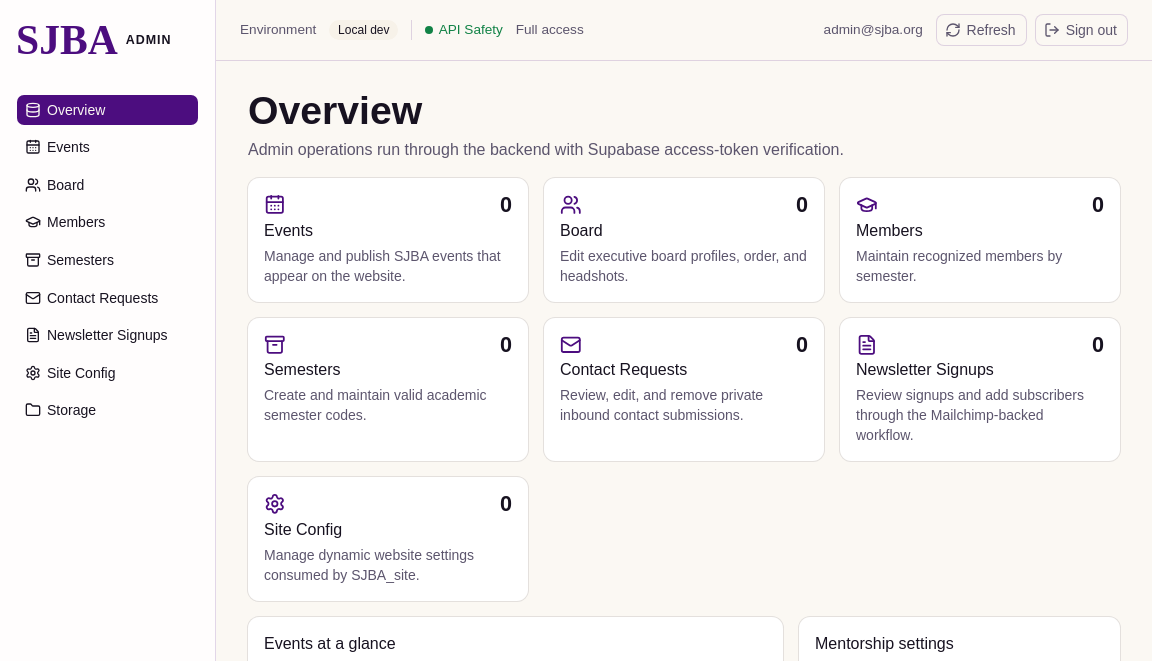
App › opens the site config CRUD screen and create form
The width and height of the screenshot is (1152, 661).
Step 1. Click the button "Site Config" → click(108, 373), box [16,357,199,389]
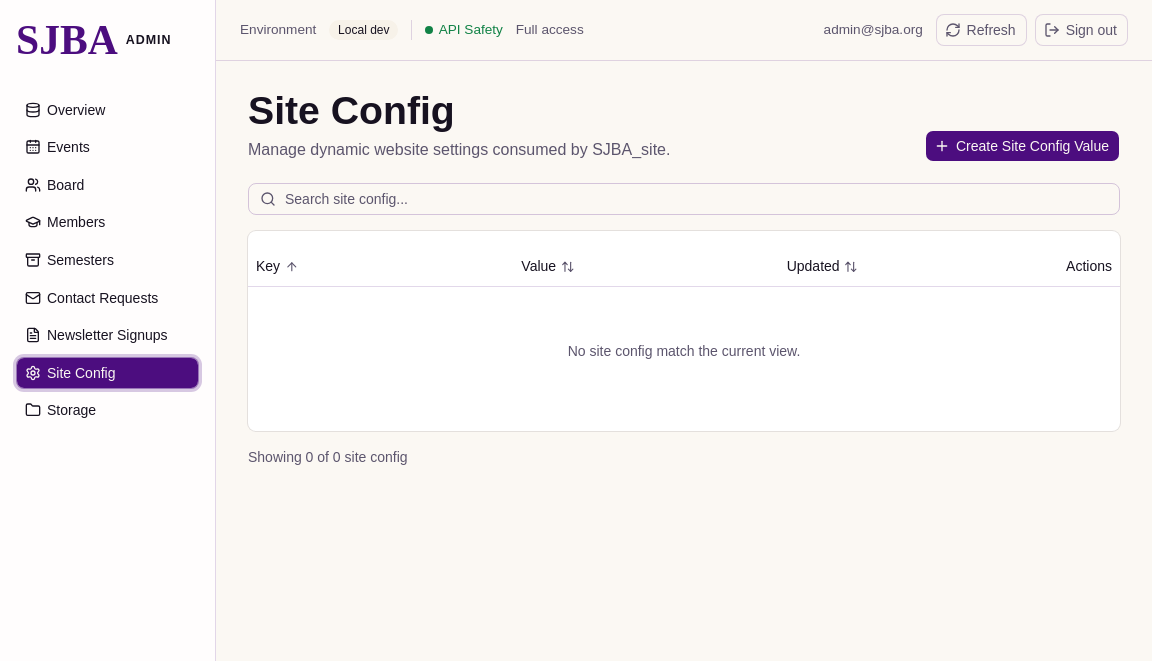
expect the heading "Site Config" is shown: met, box [248,89,455,132]
Step 2. Click the button "Create Site Config Value" → click(1022, 146), box [925,130,1120,162]
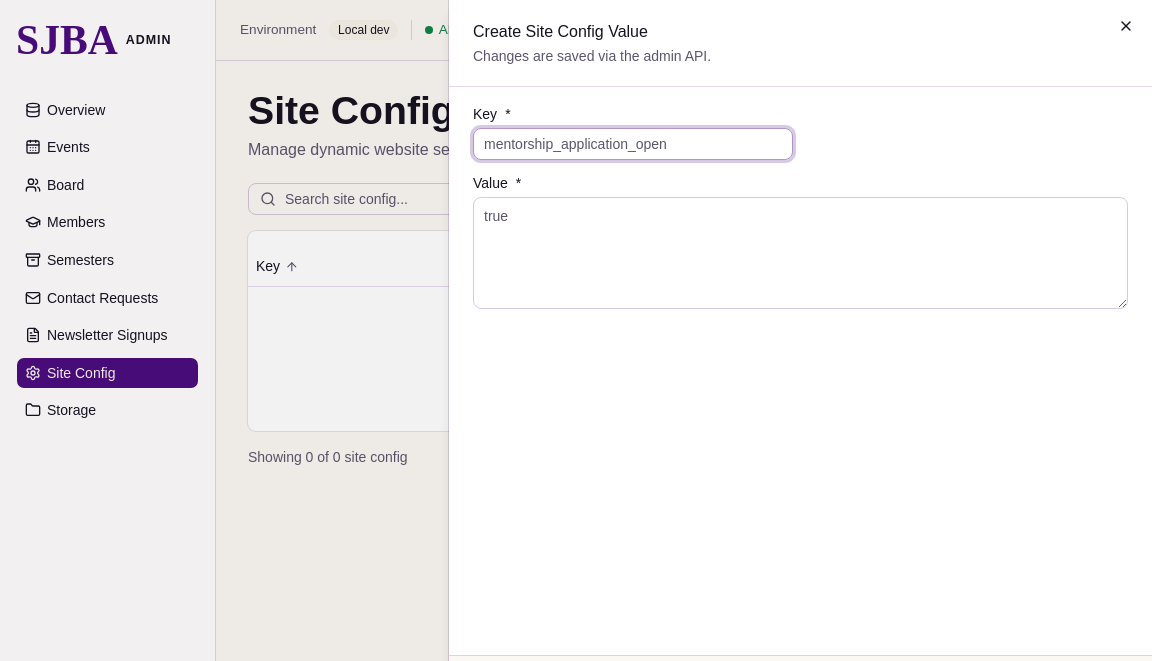
expect the heading "Create Site Config Value" is shown: met, box [473,23,648,40]
expect the field labelled "Key *" is shown: met, box [473,128,792,160]
expect the text box labelled "Value *" is shown: met, box [473,197,1128,309]
